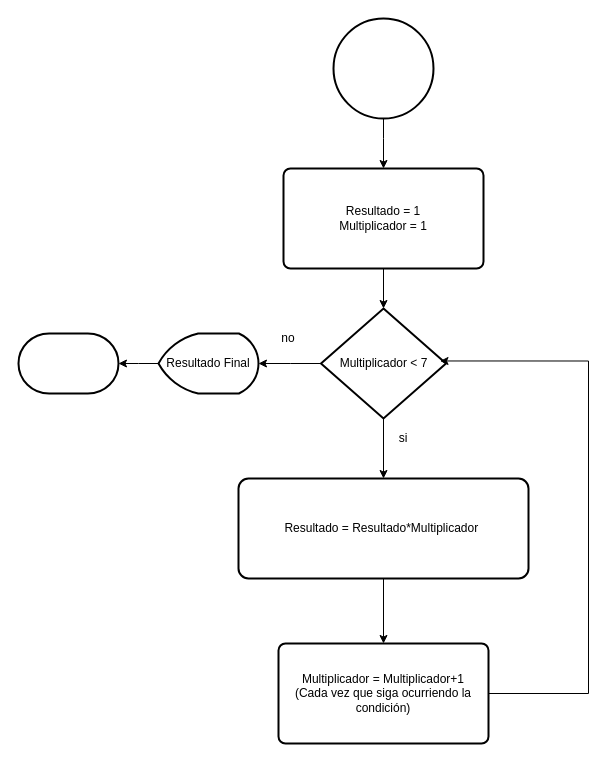
This 614x761 diagram has some shape labels left out. Here are the shapes that lost their labels. From the top down, the centre of each, then its label:
At pixel 383 68: "Inicio 7!".
At pixel 68 363: "Fin".
